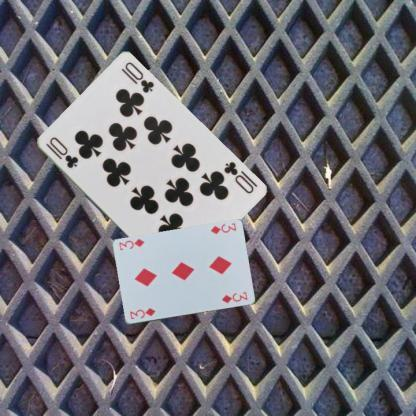10c: (43, 134, 79, 170), (221, 158, 255, 195)
3d: (208, 221, 237, 236), (127, 306, 157, 320)
